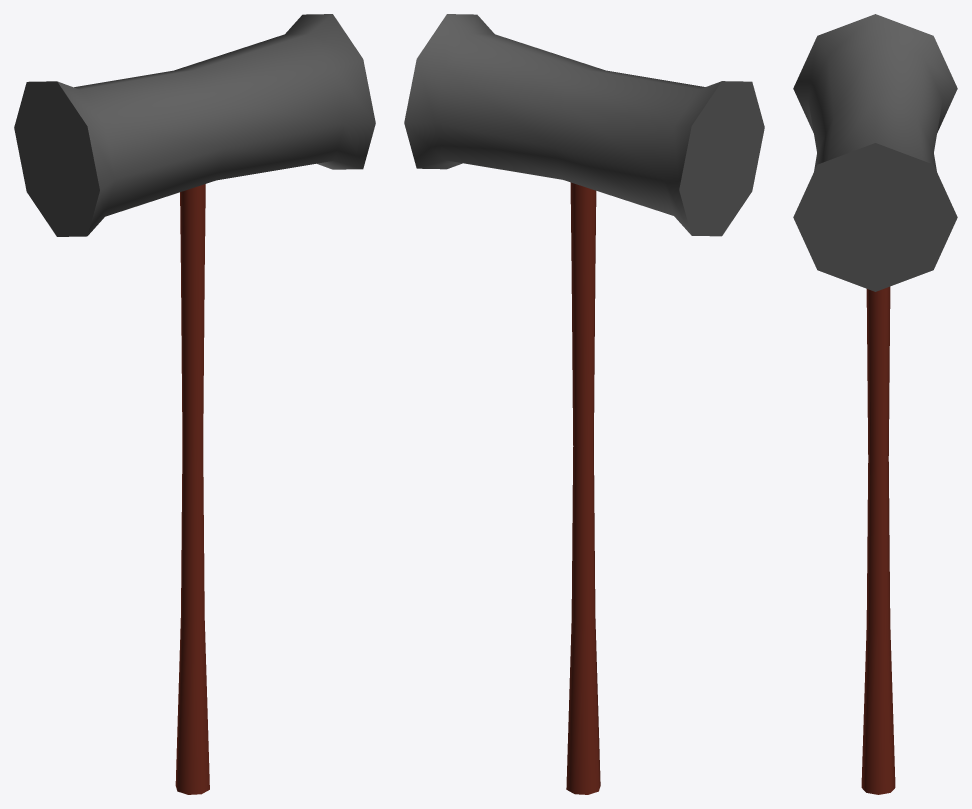
The model's file is mdl_Hammer.fbx.
3 renders of one model, left to right at view 1: azimuth 30°, elevation 25°; view 2: azimuth 150°, elevation 25°; view 3: azimuth 270°, elevation 25°, orthographic. The views are drawn at different scales.
Parts seen in each view (by area): view 1: Cylinder002, Cylinder001; view 2: Cylinder002, Cylinder001; view 3: Cylinder002, Cylinder001.
Part boxes in pixels (x1=…): Cylinder002: x1=14, y1=14, x2=375, y2=236; Cylinder001: x1=175, y1=184, x2=209, y2=794; Cylinder002: x1=404, y1=14, x2=764, y2=236; Cylinder001: x1=566, y1=182, x2=600, y2=794; Cylinder002: x1=793, y1=14, x2=957, y2=291; Cylinder001: x1=861, y1=286, x2=895, y2=794.
Size of the model in its own units: 26.38 by 67.73 by 14.24.
